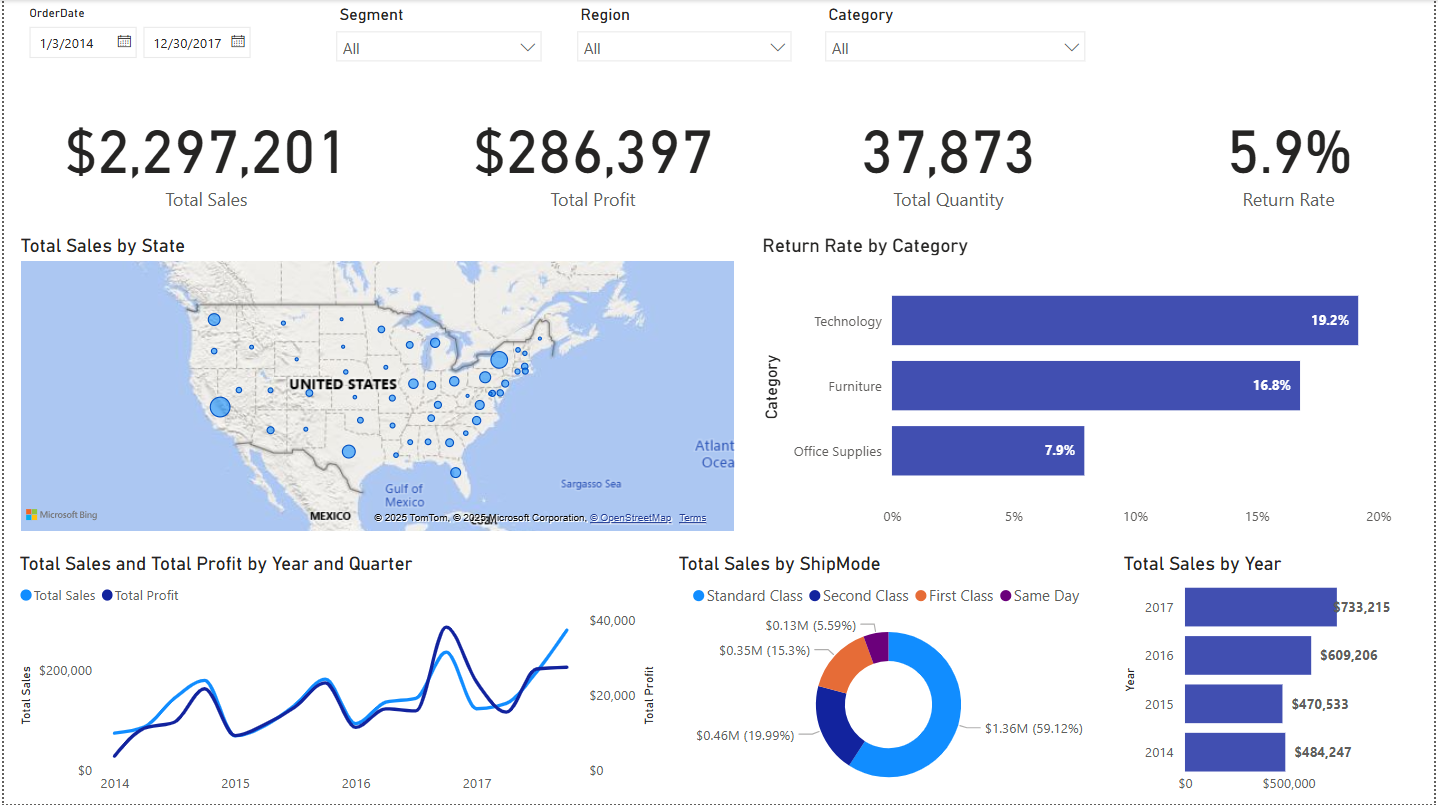

The dashboard page shown, as its layout file describes it:
{"tool":"powerbi","page":{"name":"Superstore Dashboard","canvas":[1280,720],"ordinal":0},"visuals":[{"type":"card","fields":{"Values":["MeasuresTable.Total Sales"]},"box":[7.2,83.3,348.4,112.8],"z":0},{"type":"card","fields":{"Values":["MeasuresTable.Total Profit"]},"box":[389.6,83.3,275.8,112.8],"z":1000},{"type":"card","fields":{"Values":["MeasuresTable.Return Rate"]},"box":[1029.9,83.3,240.9,112.8],"z":2000},{"type":"map","fields":{"Size":["MeasuresTable.Total Sales"],"Category":["Orders.State"]},"box":[9.9,209.6,649.3,271.3],"z":3000},{"type":"lineChart","fields":{"Y":["MeasuresTable.Total Sales"],"Category":["Orders.OrderDate.Variation.Date Hierarchy.Year","Orders.OrderDate.Variation.Date Hierarchy.Quarter"],"Y2":["MeasuresTable.Total Profit"]},"box":[9,494.3,579.4,225.7],"z":4000},{"type":"clusteredBarChart","fields":{"Y":["MeasuresTable.Return Rate"],"Category":["Orders.Category"]},"box":[674.3,209.6,596.4,271.3],"z":5000},{"type":"card","fields":{"Values":["MeasuresTable.Total Quantity"]},"box":[694,83.3,303.6,112.8],"z":6000},{"type":"donutChart","fields":{"Y":["MeasuresTable.Total Sales"],"Category":["Orders.ShipMode"]},"box":[599.1,494.3,386,225.7],"z":7000},{"type":"clusteredBarChart","fields":{"Category":["Orders.OrderDate.Variation.Date Hierarchy.Year"],"Y":["MeasuresTable.Total Sales"]},"box":[997.6,494.3,273.1,225.7],"z":8000},{"type":"slicer","fields":{"Values":["Orders.OrderDate"]},"box":[9.9,0,262.4,83.3],"z":9000},{"type":"slicer","fields":{"Values":["Orders.Segment"]},"box":[287.5,0,204.2,83.3],"z":10000},{"type":"slicer","fields":{"Values":["Orders.Region"]},"box":[503.3,0,212.2,83.3],"z":11000},{"type":"slicer","fields":{"Values":["Orders.Category"]},"box":[725.4,0,253.4,83.3],"z":12000}]}

Visuals, with their boxes in screenshot pixels (x1, y1, x2, y2), scaled from the page's 1280x720 canvas onto the 1438x805 screenshot:
card - MeasuresTable.Total Sales: 8, 93, 399, 219
card - MeasuresTable.Total Profit: 438, 93, 748, 219
card - MeasuresTable.Return Rate: 1157, 93, 1428, 219
map - MeasuresTable.Total Sales x Orders.State: 11, 234, 741, 538
lineChart - MeasuresTable.Total Sales x Orders.OrderDate.Variation.Date Hierarchy.Year: 10, 553, 661, 804
clusteredBarChart - MeasuresTable.Return Rate x Orders.Category: 758, 234, 1428, 538
card - MeasuresTable.Total Quantity: 780, 93, 1121, 219
donutChart - MeasuresTable.Total Sales x Orders.ShipMode: 673, 553, 1107, 804
clusteredBarChart - Orders.OrderDate.Variation.Date Hierarchy.Year x MeasuresTable.Total Sales: 1121, 553, 1428, 804
slicer - Orders.OrderDate: 11, 0, 306, 93
slicer - Orders.Segment: 323, 0, 552, 93
slicer - Orders.Region: 565, 0, 804, 93
slicer - Orders.Category: 815, 0, 1100, 93
